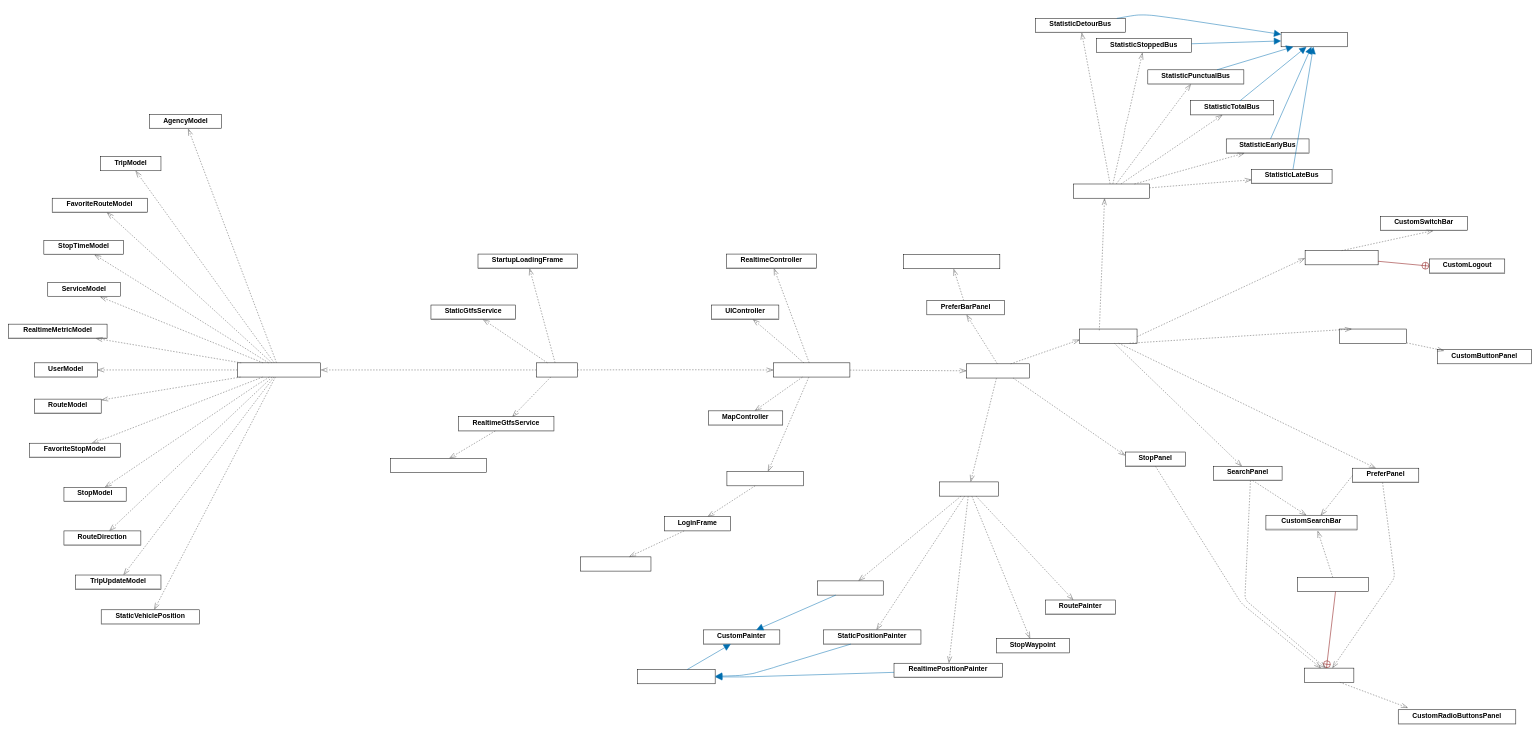
The diagram is 1540 pixels wide and 733 high, and some of its shapes have lost their labels. The centre of each missing label's shape, as x and y in pixels:
Builder: pixel 1329 675
ButtonPanel: pixel 1373 336
CustomPreferButton: pixel 951 261
CustomTable: pixel 1332 584
DatabaseService: pixel 279 369
LeftPanel: pixel 1108 336
Main: pixel 556 369
MainController: pixel 811 369
MainFrame: pixel 998 370
MapPanel: pixel 968 488
PasswordBar: pixel 615 563
PositionPainter: pixel 676 676
RealtimeStopUpdate: pixel 438 465
SettingsPanel: pixel 1341 257
StatisticsPanel: pixel 1111 191
StatisticUnit: pixel 1314 39
StopPainter: pixel 850 587
UserController: pixel 764 478
